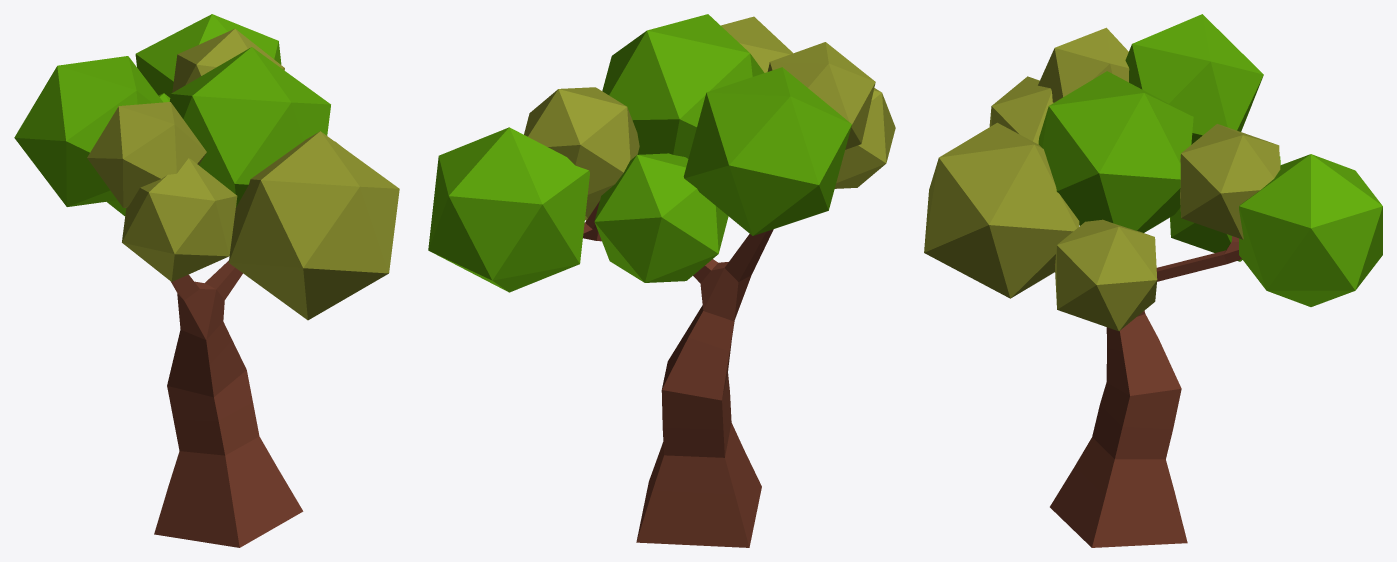
Rendered from Tree_Icosphere_02.fbx.
3 renders of one model, left to right at view 1: azimuth 30°, elevation 25°; view 2: azimuth 150°, elevation 25°; view 3: azimuth 270°, elevation 25°, orthographic. The views are drawn at different scales.
Visible parts, largest first — view 1: Cube, Icosphere.007, Icosphere.008, Icosphere.002, Icosphere.004, Icosphere.006, Icosphere, Icosphere.003; view 2: Cube, Icosphere, Icosphere.002, Icosphere.008, Icosphere.005, Icosphere.003, Icosphere.006, Icosphere.004, Icosphere.007; view 3: Cube, Icosphere.007, Icosphere.008, Icosphere, Icosphere.002, Icosphere.009, Icosphere.003, Icosphere.006, Icosphere.004, Icosphere.005.
Part boxes in pixels (x1,y1,x2,y2): Cube: (154, 260, 303, 547); Icosphere.007: (228, 131, 399, 320); Icosphere.008: (170, 47, 330, 206); Icosphere.002: (14, 56, 163, 206); Icosphere.004: (122, 158, 237, 281); Icosphere.006: (87, 102, 206, 207); Icosphere: (135, 14, 281, 97); Icosphere.003: (172, 29, 284, 92); Cube: (583, 201, 773, 547); Icosphere: (428, 127, 589, 292); Icosphere.002: (683, 67, 851, 235); Icosphere.008: (602, 14, 764, 158); Icosphere.005: (594, 153, 728, 282); Icosphere.003: (524, 87, 639, 202); Icosphere.006: (767, 42, 875, 149); Icosphere.004: (834, 88, 895, 188); Icosphere.007: (721, 16, 792, 72); Cube: (1050, 236, 1241, 547); Icosphere.007: (924, 122, 1079, 298); Icosphere.008: (1038, 71, 1193, 232); Icosphere: (1239, 154, 1382, 306); Icosphere.002: (1125, 14, 1263, 144); Icosphere.009: (1055, 219, 1157, 331); Icosphere.003: (1180, 124, 1280, 239); Icosphere.006: (1038, 27, 1129, 102); Icosphere.004: (989, 76, 1053, 144); Icosphere.005: (1170, 156, 1280, 261).
Size of the model in its own units: 197 by 281 by 256.
